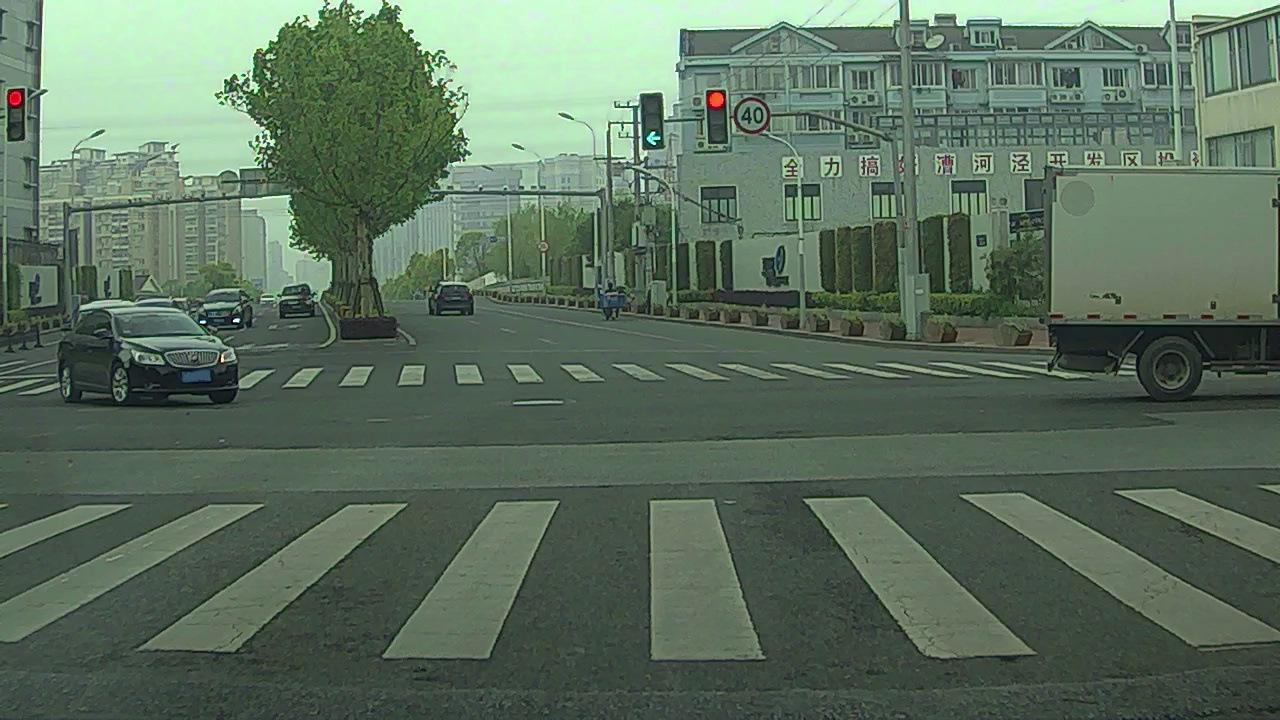traffic_light: (640, 94, 664, 149), (707, 89, 730, 145)
